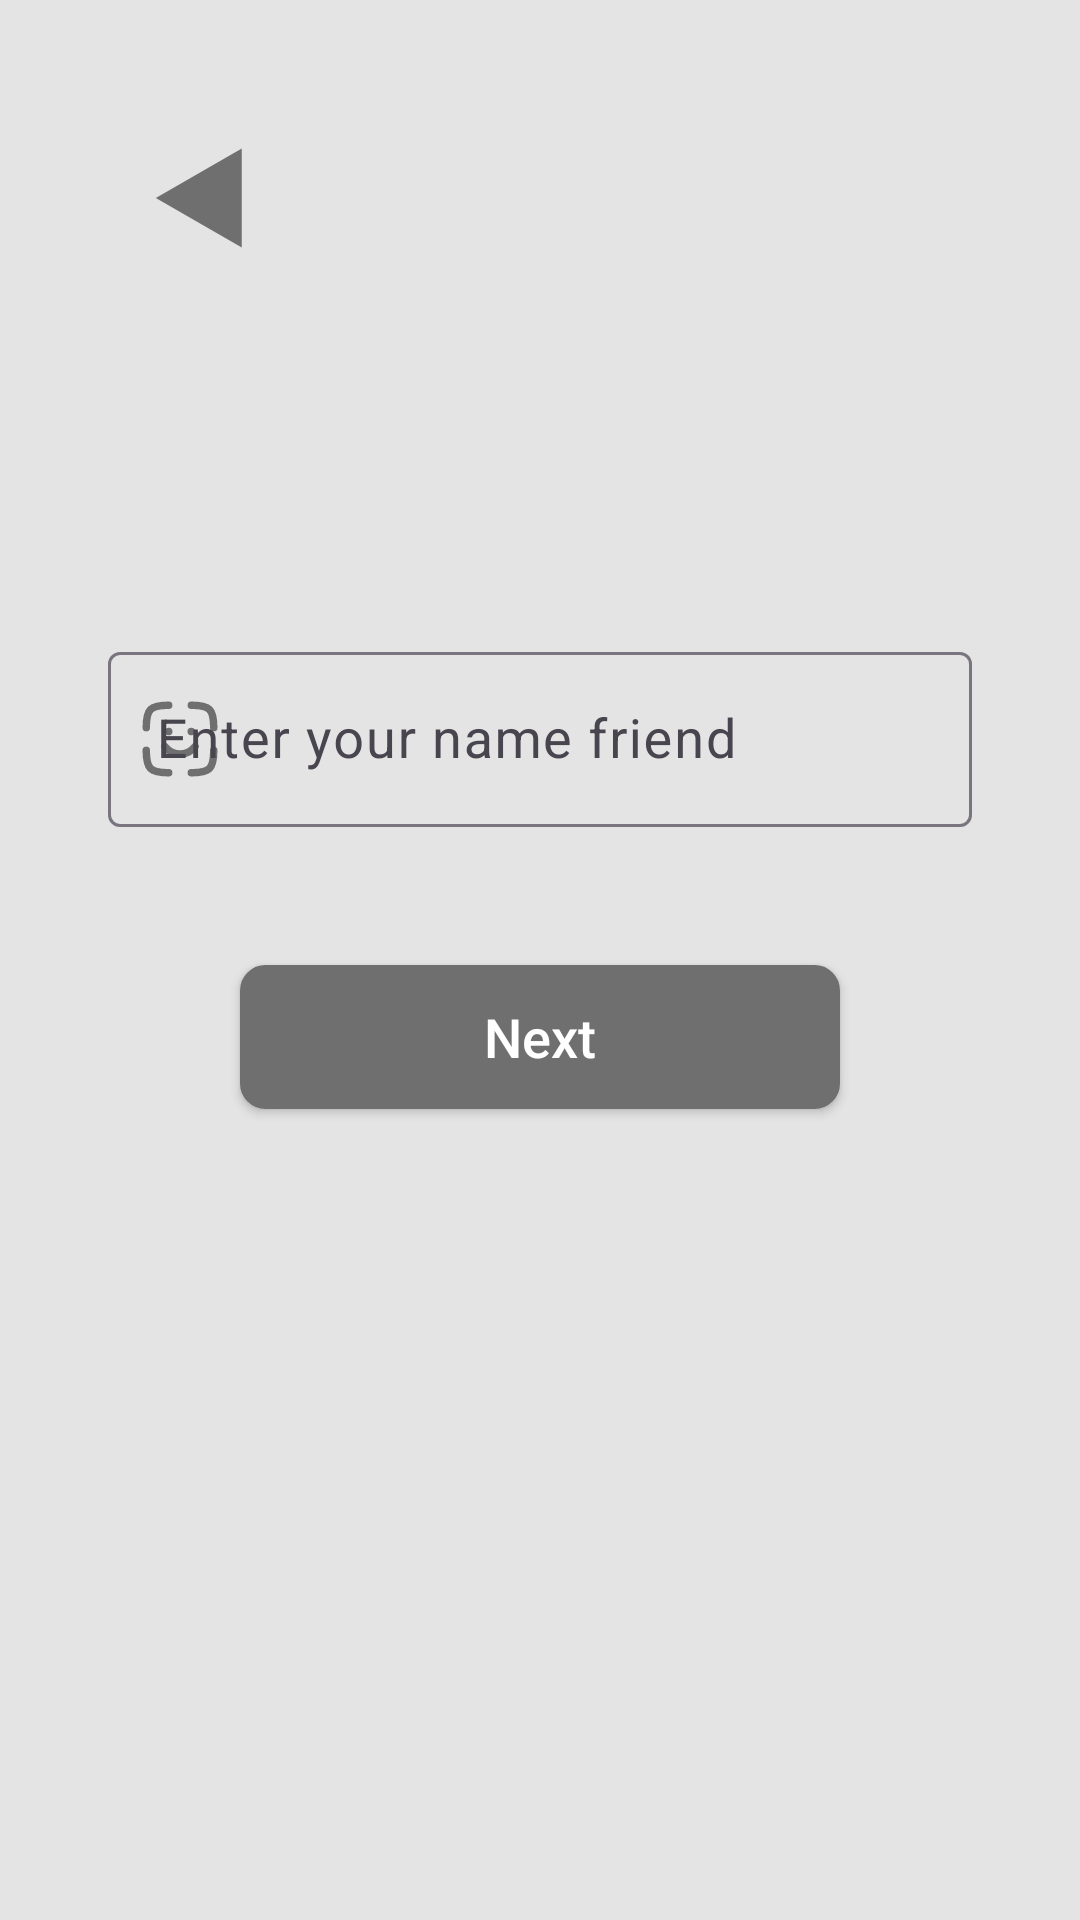

Icon click points for this 1080*1920 phone screenshot, format point (x, y):
back: point (199, 198)
